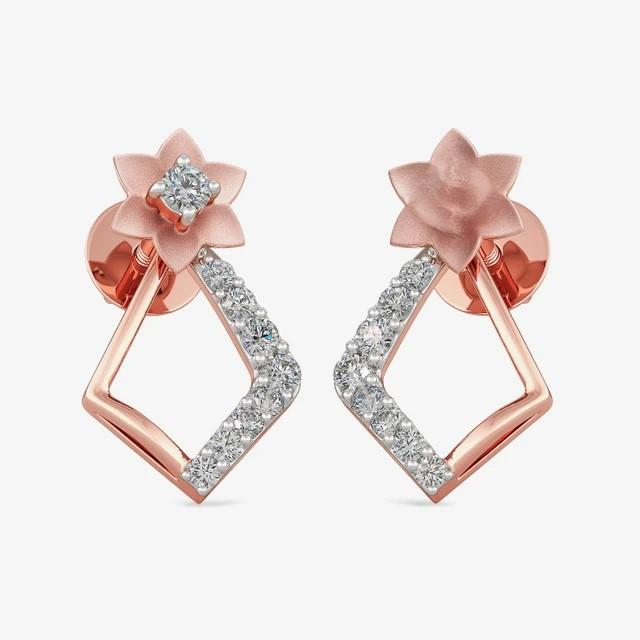missing gem: (425, 163, 481, 221)
